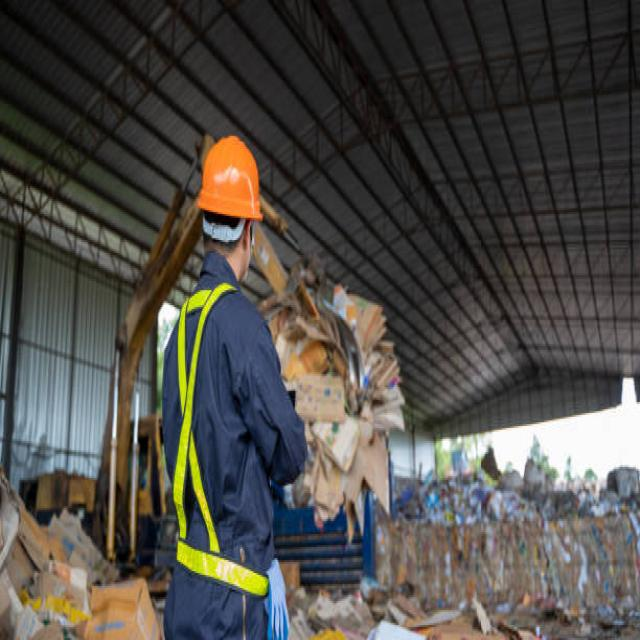cardboard: (293, 285, 618, 595), (1, 483, 155, 618)
